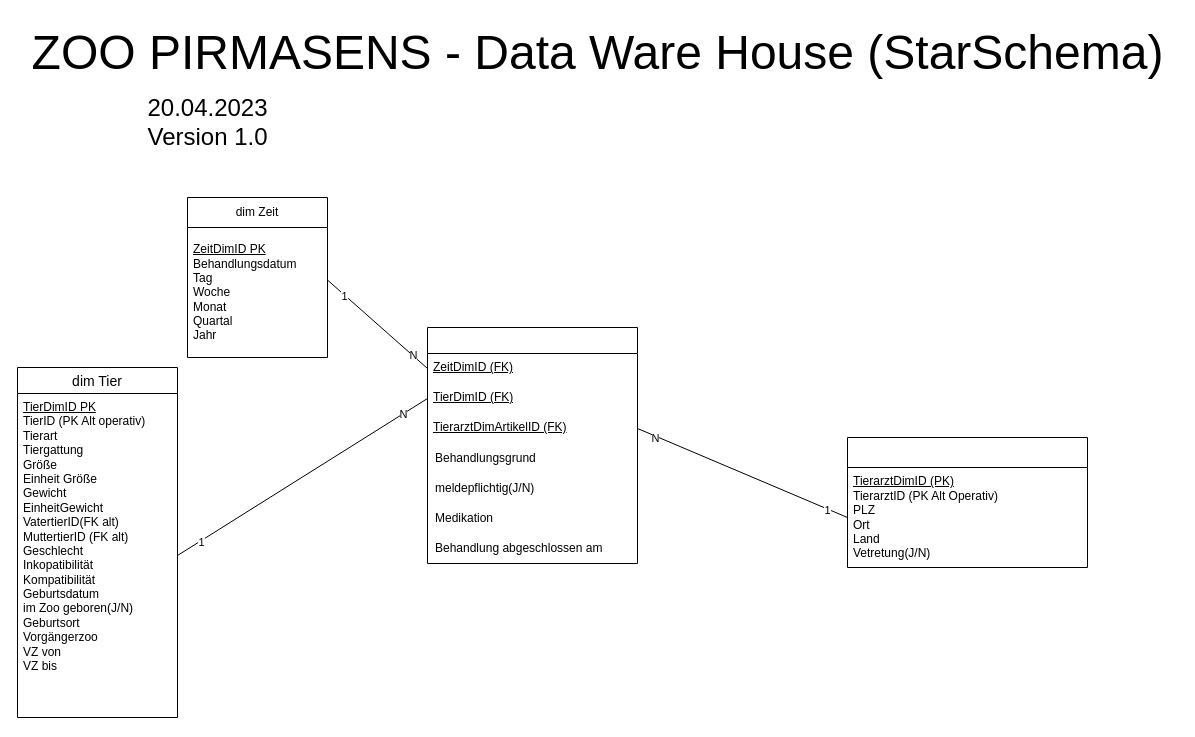
Some shapes in this 1195 by 737 pixel diagram are drawn without their labels. The shapes that lost their labels are listed below. From the top down, each one's box as (x1, y1, x2, y2) in pixels, then its label:
(426, 326, 638, 564): Faktentabelle (Arztbehandlung)
(846, 436, 1088, 568): dim Tierarzt
